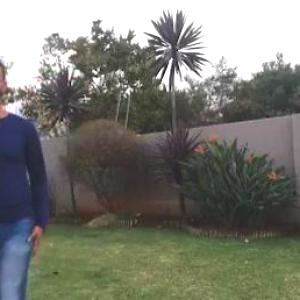follow: (1, 68, 47, 299)
